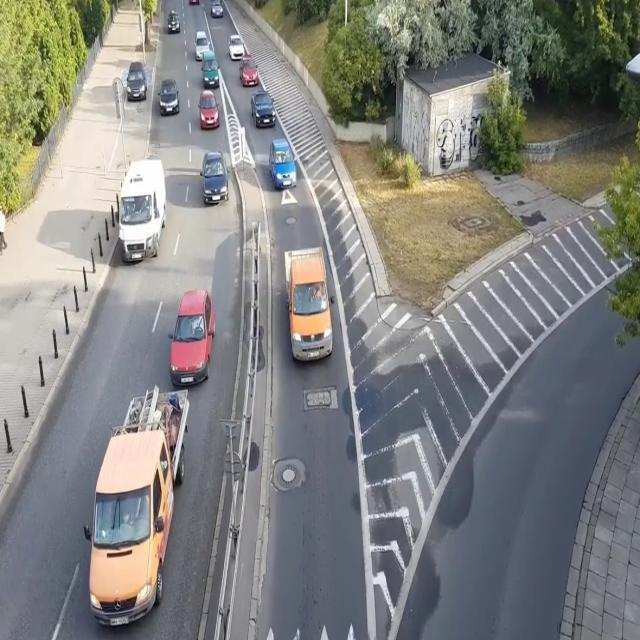car: (168, 290, 215, 387), (200, 151, 231, 202), (269, 138, 298, 188), (250, 89, 276, 131), (198, 89, 220, 130), (157, 77, 180, 116), (126, 61, 147, 101), (240, 54, 259, 88), (193, 30, 210, 61), (228, 34, 245, 60), (166, 11, 181, 34), (209, 0, 223, 18), (188, 0, 199, 4)
truck: (83, 386, 191, 629), (284, 246, 336, 362)
van: (118, 159, 167, 262), (201, 51, 220, 90)
